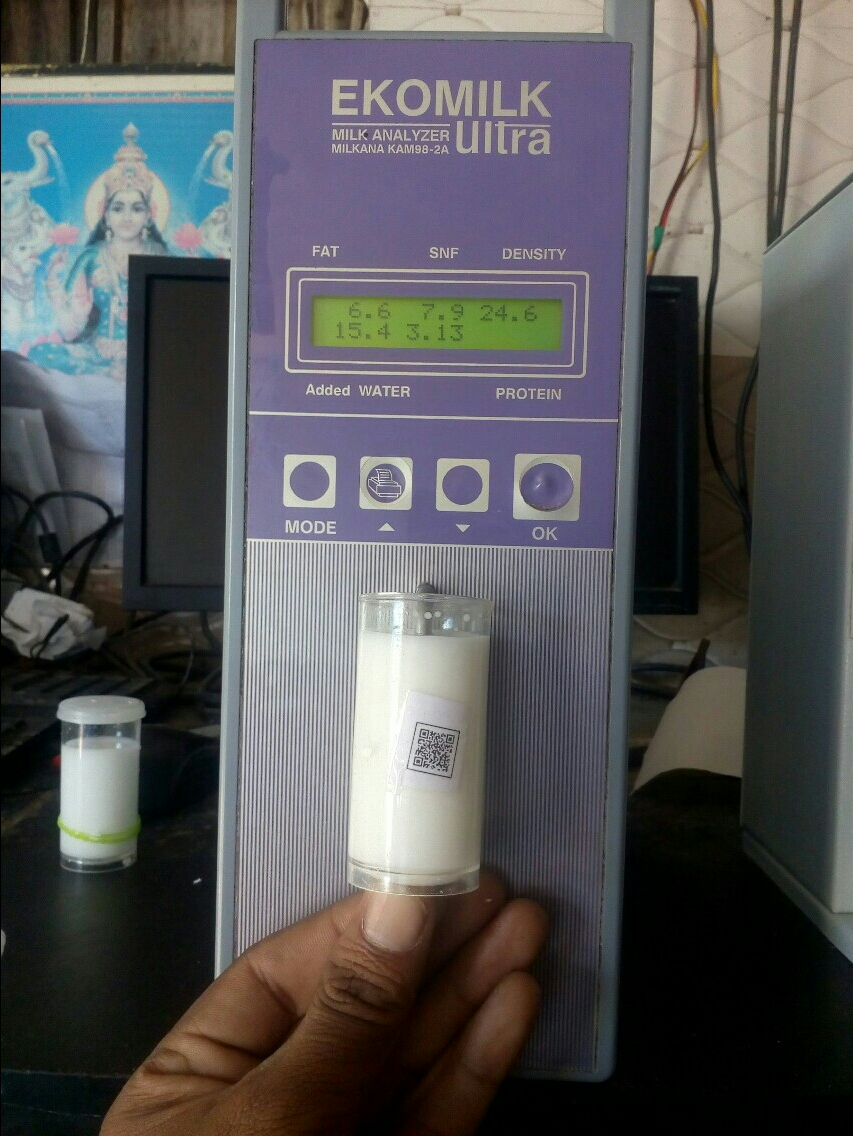lcd: (305, 288, 575, 361)
qr: (406, 718, 465, 787)
